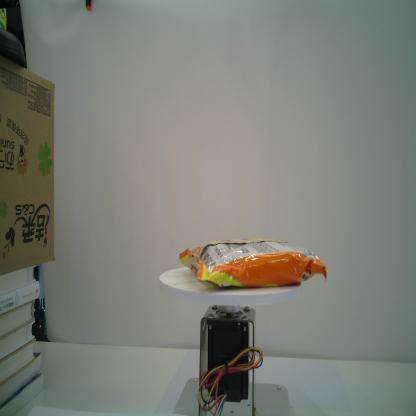Instant Noodles: (179, 238, 327, 288)
